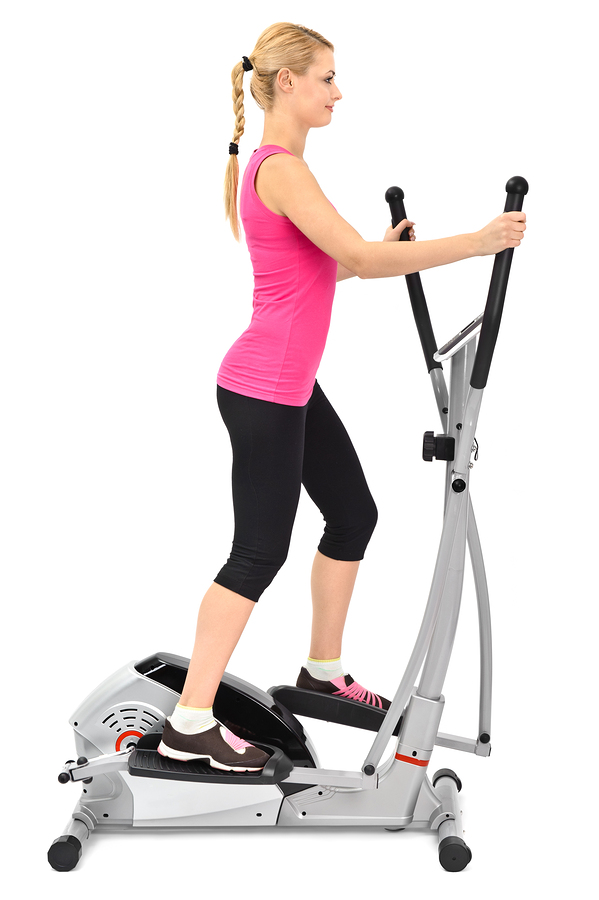gym_bike: (47, 173, 541, 879)
